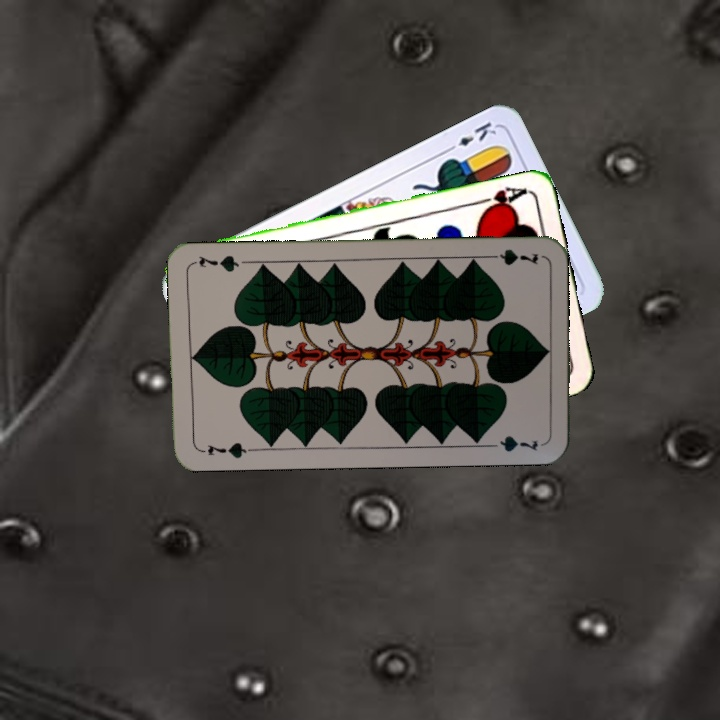EK: (442, 117, 499, 155)
G7: (482, 245, 540, 268), (196, 439, 255, 461)
HA: (471, 182, 529, 216)
